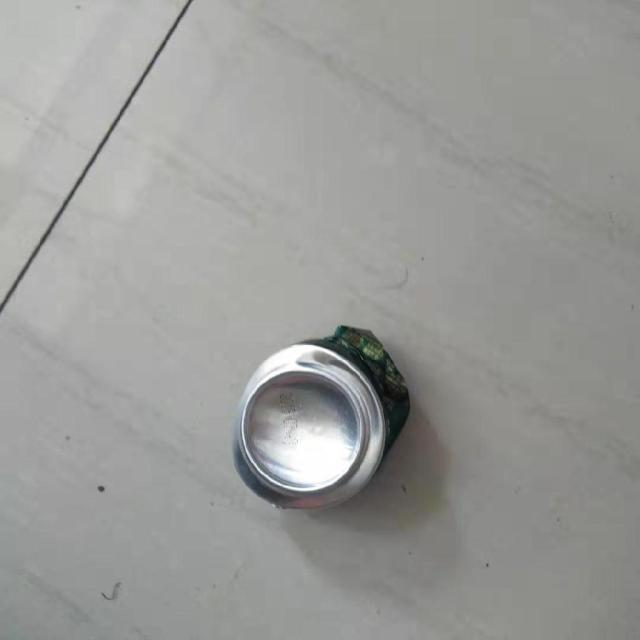-Recyclables - can-: (229, 314, 420, 530)
